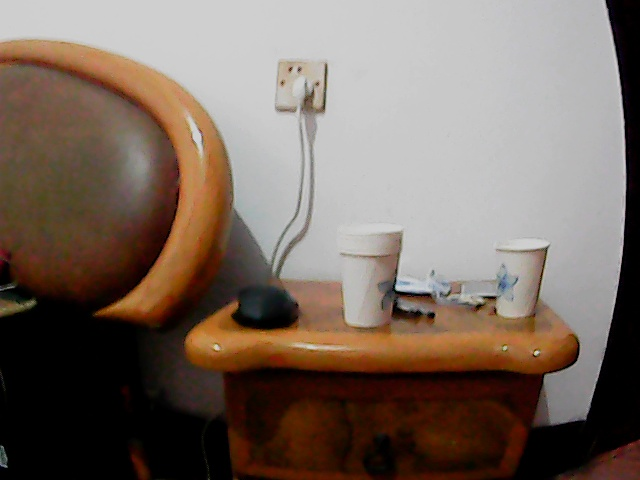cup: (332, 226, 406, 331)
mouse: (231, 282, 297, 331)
